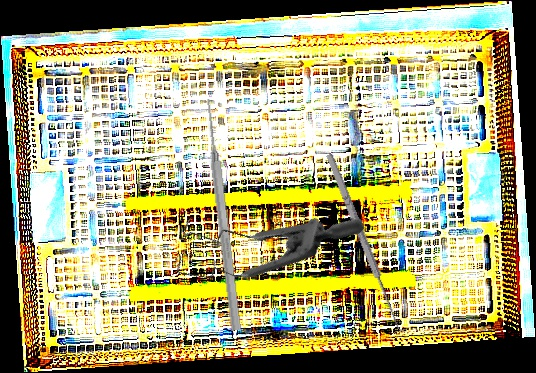Hook Surgical: (323, 150, 412, 334)
Pusher: (200, 97, 245, 332)
Speculum: (155, 134, 367, 340)
